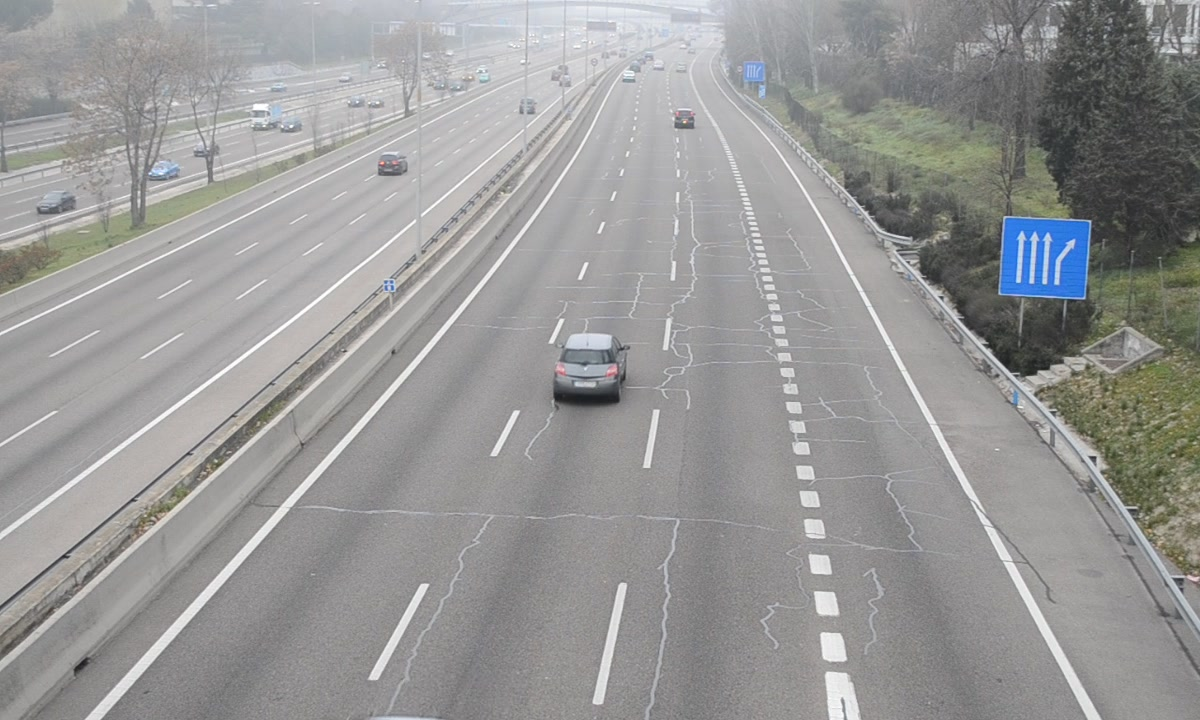car: (554, 335, 624, 401), (673, 106, 695, 129)
